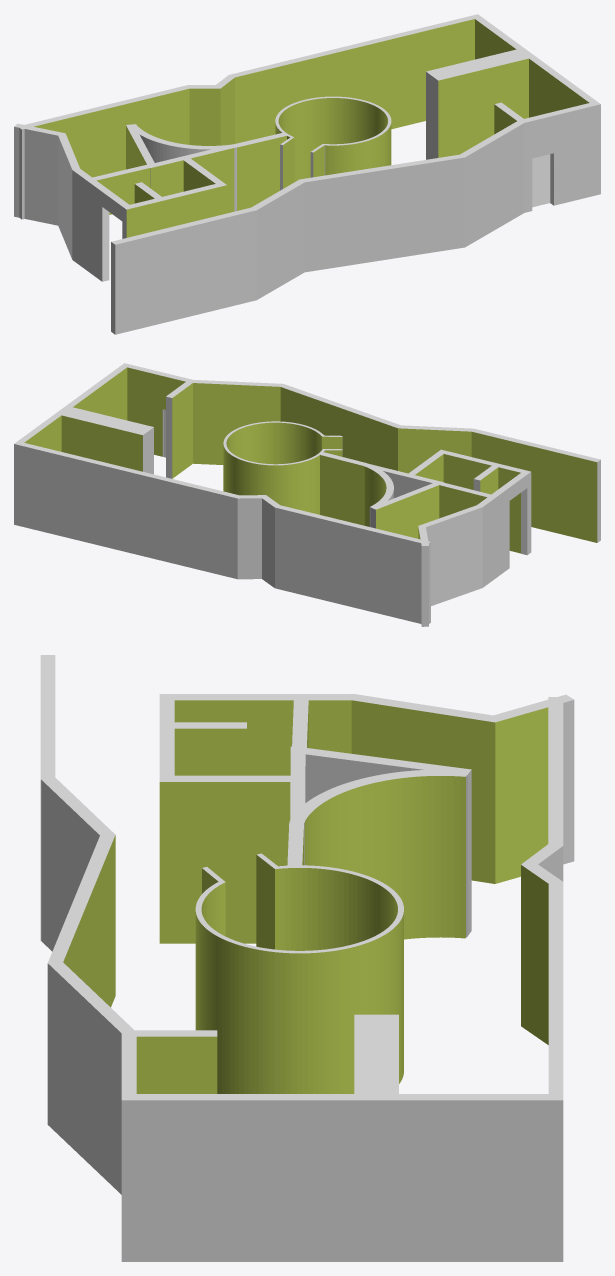
Rendered from VDNH_MINUS_GLB.glb.
3 views of the same model, one above another, from view 1: azimuth 30°, elevation 25°; view 2: azimuth 150°, elevation 25°; view 3: azimuth 270°, elevation 25° (orthographic). The views are drawn at different scales.
Size of the model in its own units: 0.0355 by 0.006 by 0.018.
